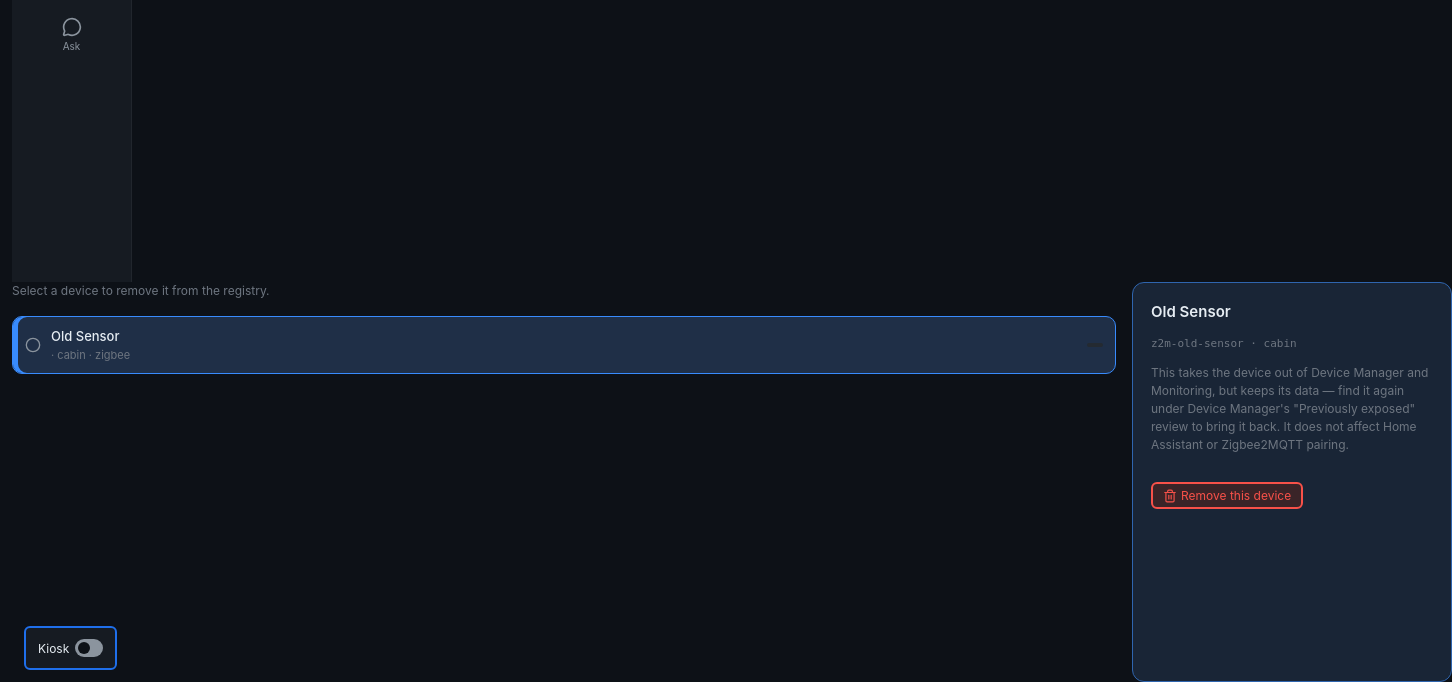
Test: DmRemoveView (non-destructive Remove, 2026-09-02) › the confirmation step also says it's reversible, not that it disappears permanently
(page scrolled)
Click the button "Remove this device": (1227, 496) [1151,482,1303,509]
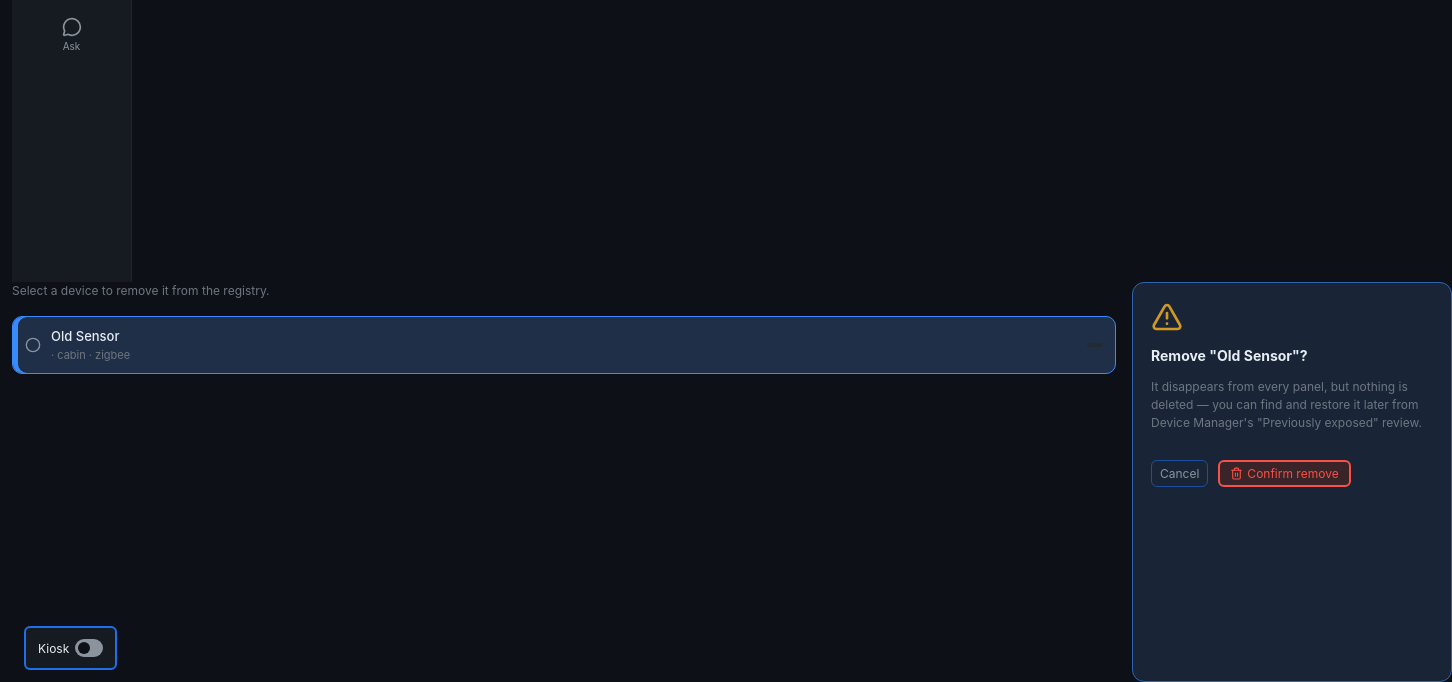
Expected: the text "restore it later" is shown, [1151,379,1422,430]
